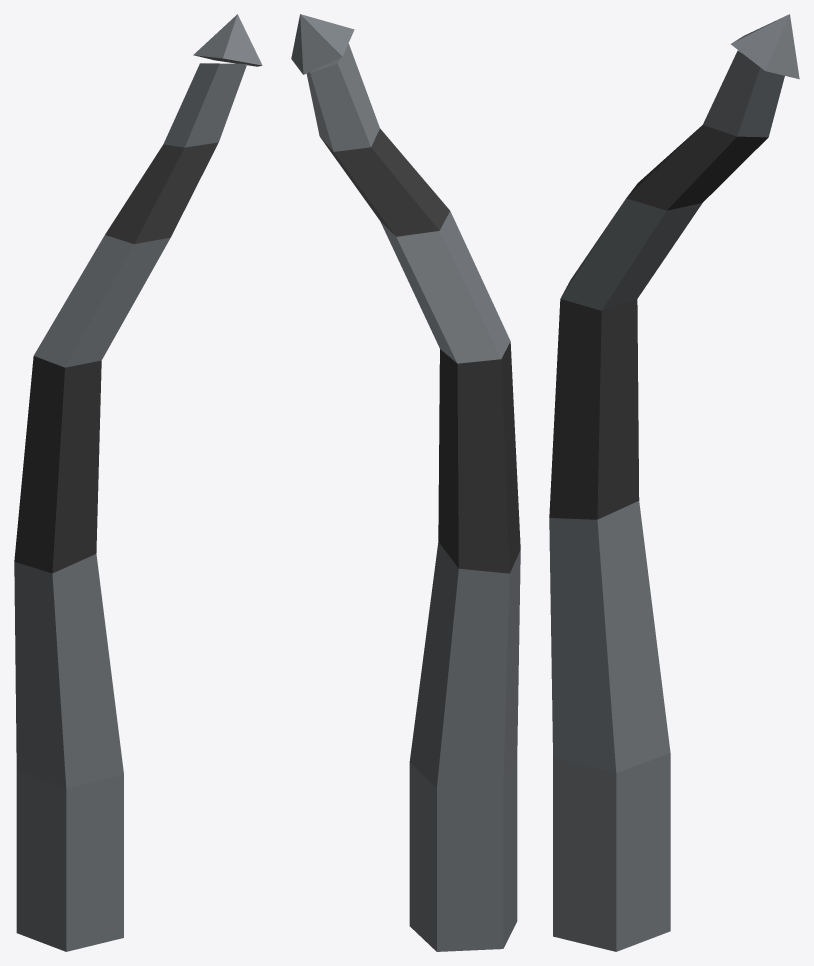
File: LightGreyMetalDecorationMediumCrookedChimney1.fbx
3 renders of one model, left to right at view 1: azimuth 30°, elevation 25°; view 2: azimuth 150°, elevation 25°; view 3: azimuth 330°, elevation 25°, orthographic. The views are drawn at different scales.
Visible parts, largest first — view 1: LightGreyMetalDecorationMediumCrookedChimney1; view 2: LightGreyMetalDecorationMediumCrookedChimney1; view 3: LightGreyMetalDecorationMediumCrookedChimney1.
Part boxes in pixels (left/top/right/bottom): LightGreyMetalDecorationMediumCrookedChimney1: left=14, top=14, right=262, bottom=951; LightGreyMetalDecorationMediumCrookedChimney1: left=291, top=14, right=520, bottom=951; LightGreyMetalDecorationMediumCrookedChimney1: left=549, top=14, right=799, bottom=951.
Size of the model in its own units: 469 by 1699 by 185.
Materials: 2 (2 with a texture image).
